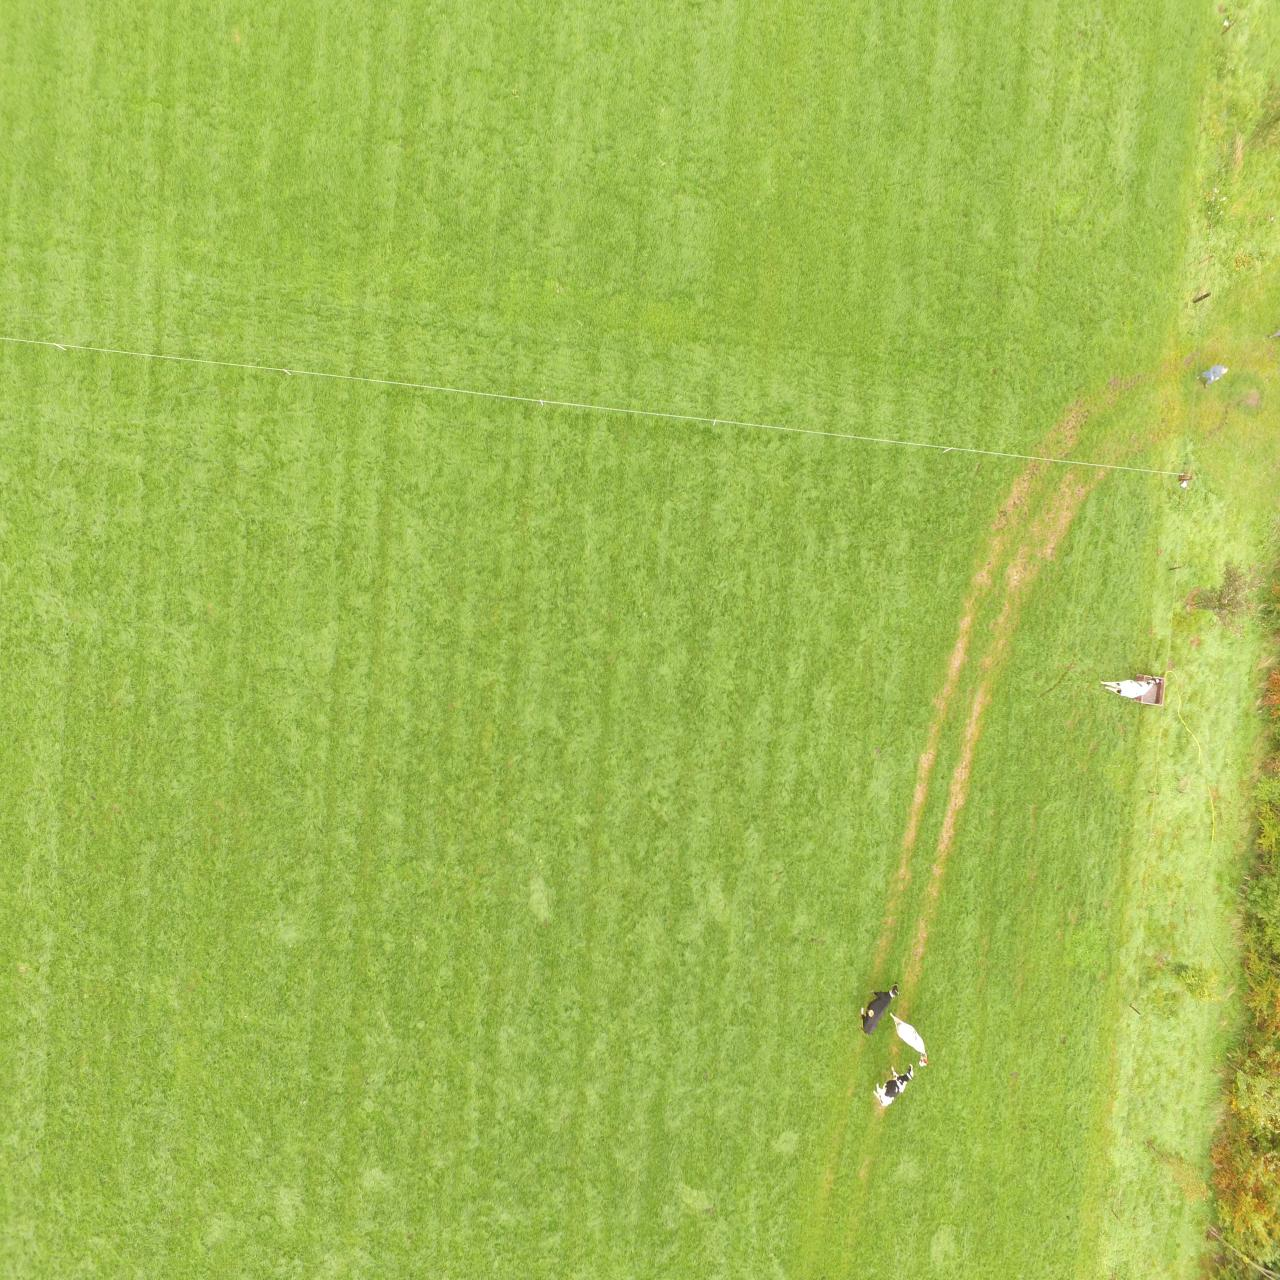cow: (859, 981, 899, 1035), (889, 1013, 928, 1067), (874, 1063, 916, 1107), (1100, 675, 1160, 699)
